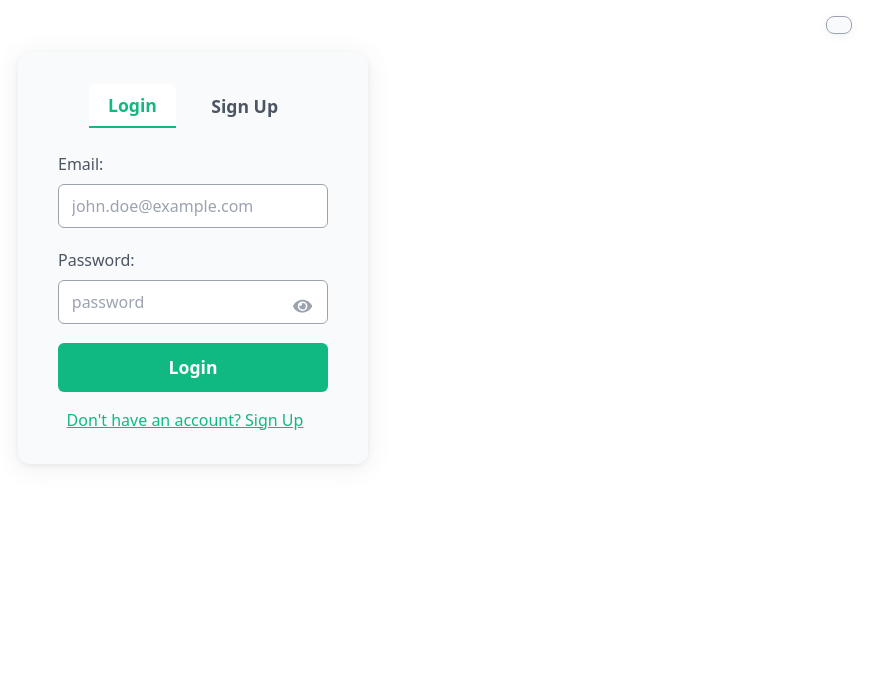
App Component › shows confirm account modal after successful sign up
Click the button "Sign Up".
click(245, 106)  # box x1=192 y1=84 x2=297 y2=128
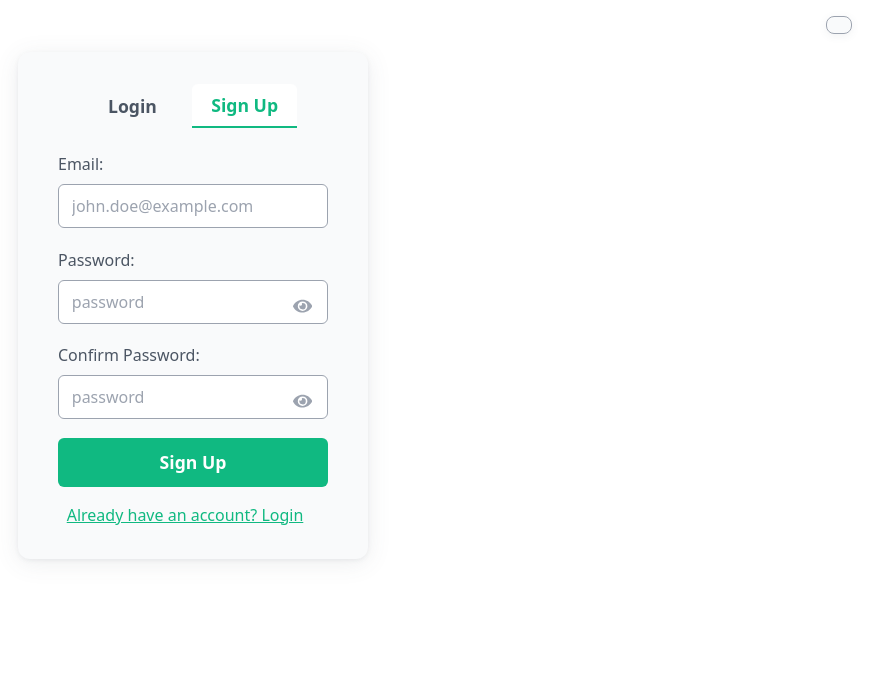
Type "test@example.com" into the field with id "signup-email".
click(193, 206); type("test@example.com")  # box x1=58 y1=184 x2=328 y2=228
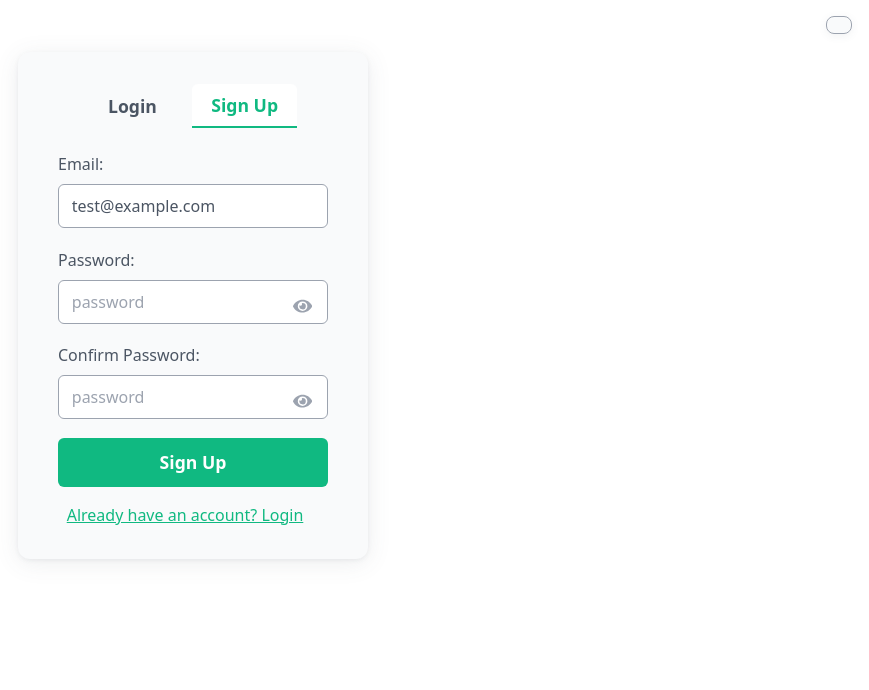
Type "Test_Pass_1!" into the password field with id "signup-password".
click(193, 302); type("Test_Pass_1!")  # box x1=58 y1=280 x2=328 y2=324
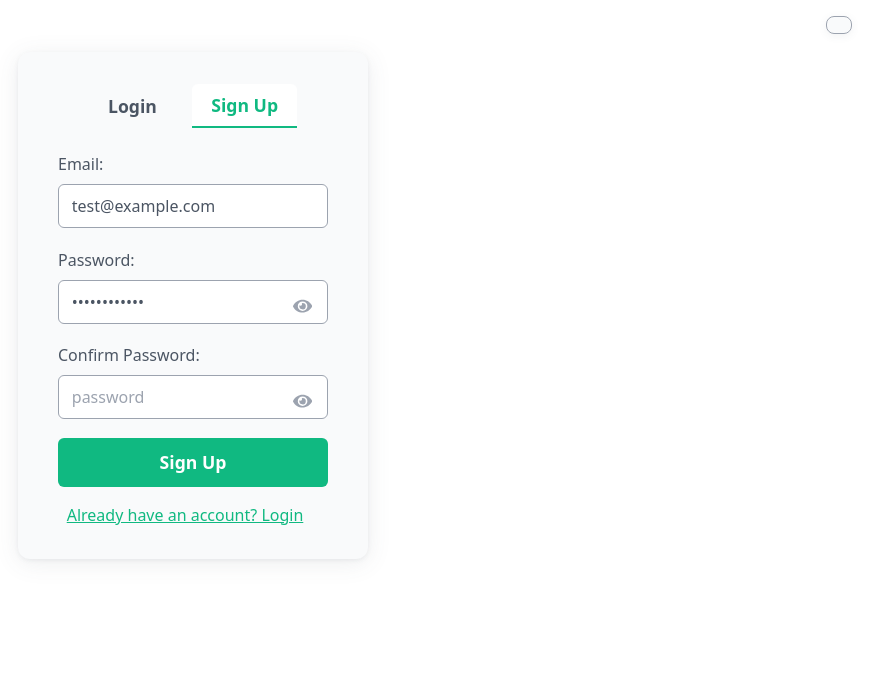
Type "Test_Pass_1!" into the password field with id "signup-confirm".
click(193, 397); type("Test_Pass_1!")  # box x1=58 y1=375 x2=328 y2=419
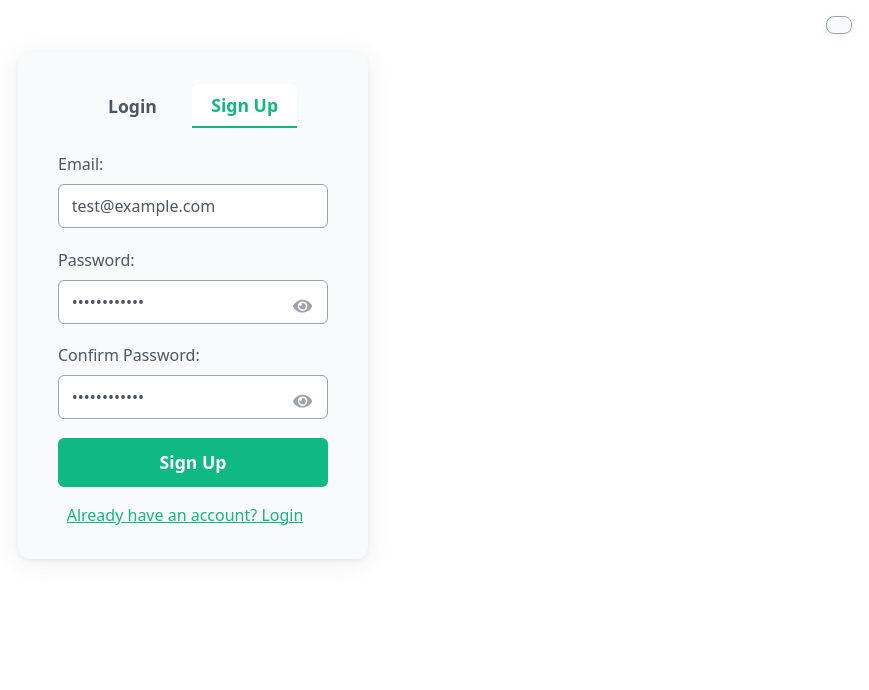
Click the button "Sign Up" below "Confirm Password:".
click(193, 462)  # box x1=58 y1=438 x2=328 y2=487
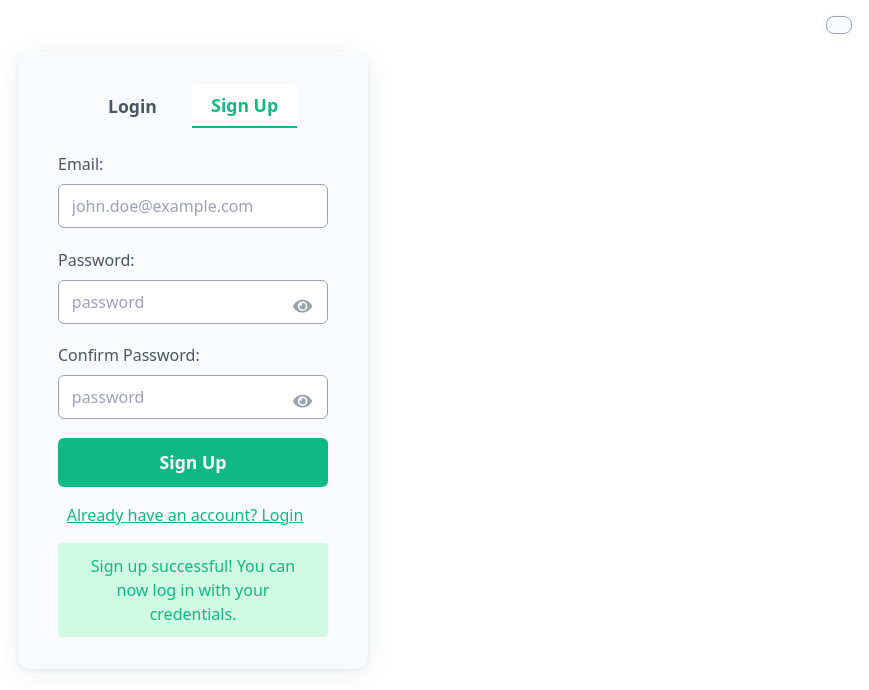
Check: the text "Sign up successful" is shown, box x1=91 y1=555 x2=295 y2=625
